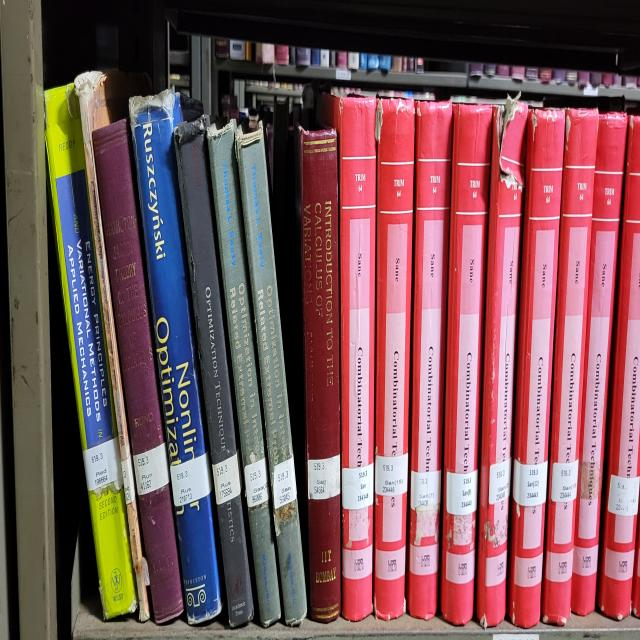Book: (45, 84, 141, 620), (130, 89, 222, 625), (92, 119, 184, 622), (74, 70, 150, 622), (174, 116, 254, 625), (208, 119, 281, 625), (235, 127, 306, 625), (541, 108, 599, 625), (508, 108, 565, 628), (571, 111, 628, 614), (475, 97, 529, 625), (322, 97, 376, 620), (440, 103, 492, 625), (406, 100, 452, 620), (374, 97, 415, 620), (598, 116, 640, 617), (300, 127, 341, 622)
Label: (170, 452, 212, 506), (82, 438, 122, 490), (134, 444, 169, 495), (512, 460, 548, 506), (341, 463, 374, 509), (308, 455, 340, 501), (608, 473, 640, 517), (446, 471, 478, 514), (212, 455, 240, 503), (375, 455, 408, 495), (244, 457, 269, 509), (551, 460, 579, 503), (274, 457, 296, 509), (411, 471, 441, 509), (489, 457, 511, 503), (580, 460, 601, 501), (121, 457, 135, 503)
